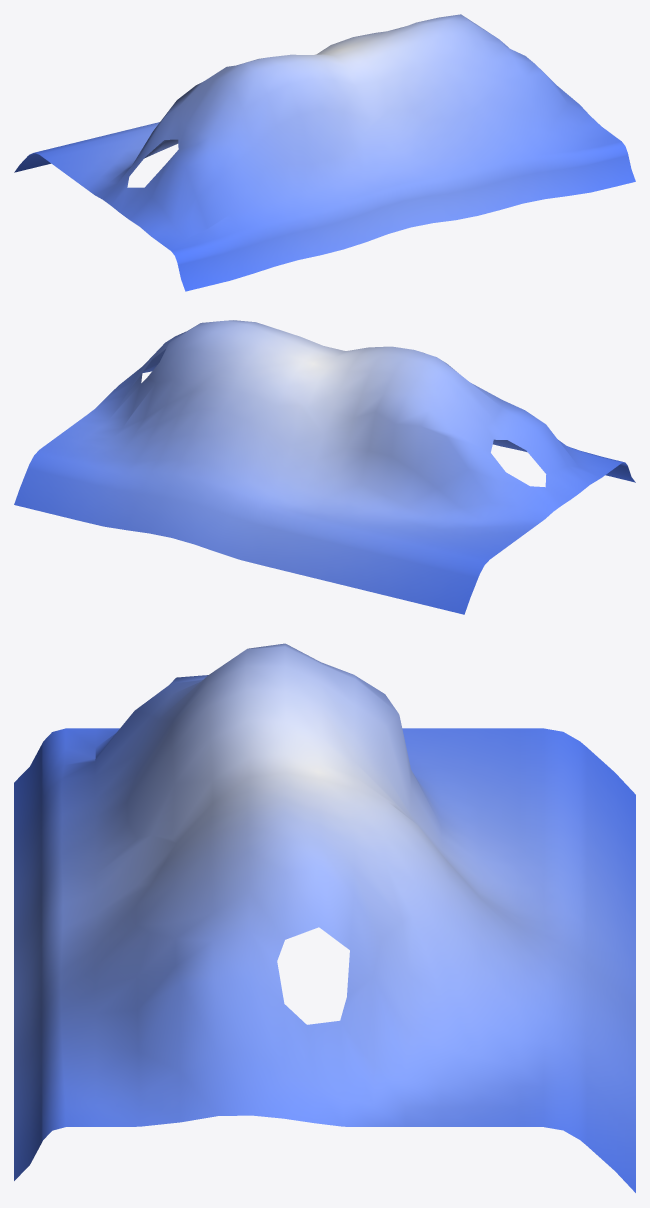
The model's file is Double Entraces Moutain Connector 1.fbx.
The picture shows the model from 3 angles, top to bottom: view 1: azimuth 30°, elevation 25°; view 2: azimuth 150°, elevation 25°; view 3: azimuth 270°, elevation 25°; orthographic projection. The views are drawn at different scales.
Visible parts, largest first — view 1: pPlane1; view 2: pPlane1; view 3: pPlane1.
Boxes of the visible parts, bbox=[...] form: pPlane1: bbox=[14, 14, 635, 291]; pPlane1: bbox=[14, 320, 635, 614]; pPlane1: bbox=[14, 643, 635, 1192].
Size of the model in its own units: 16.7 by 5.24 by 11.01.
